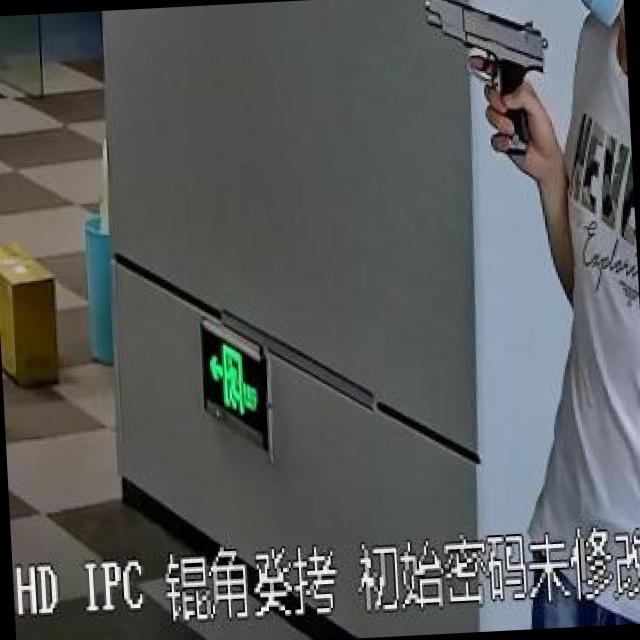Guns: (401, 0, 588, 175)
